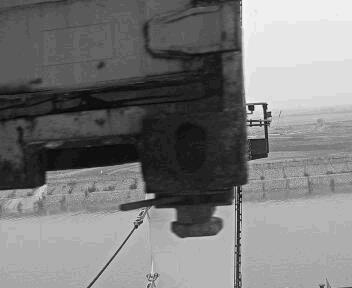twist_lock_1: (109, 185, 210, 252)
